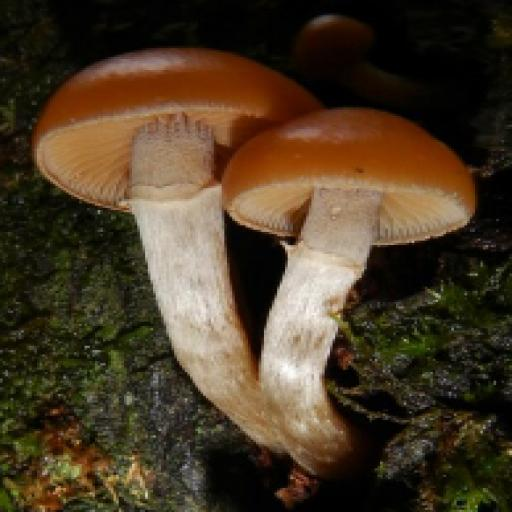Funeral Bell: (31, 41, 481, 455)
